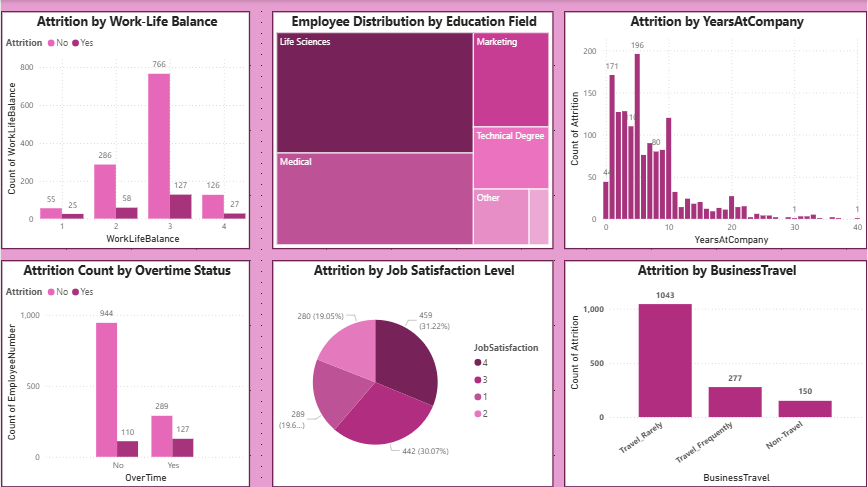

What the dashboard file says about the page in this screenshot:
{"tool":"powerbi","page":{"name":"HR Dashboad","canvas":[1280,720],"ordinal":2},"visuals":[{"type":"clusteredColumnChart","title":"Attrition by Work-Life Balance","fields":{"Category":["HR-Employee-Attrition.WorkLifeBalance"],"Y":["CountNonNull(HR-Employee-Attrition.WorkLifeBalance)"],"Series":["HR-Employee-Attrition.Attrition"]},"box":[0,16,368,352],"z":0},{"type":"clusteredColumnChart","title":"Attrition by YearsAtCompany","fields":{"Category":["HR-Employee-Attrition.YearsAtCompany"],"Y":["CountNonNull(HR-Employee-Attrition.Attrition)"]},"box":[832,16,448,352],"z":1000},{"type":"treemap","title":"Employee Distribution by Education Field","fields":{"Group":["HR-Employee-Attrition.EducationField"],"Values":["Sum(HR-Employee-Attrition.JobLevel)"]},"box":[400,16,416,352],"z":2000},{"type":"clusteredColumnChart","title":"Attrition Count by Overtime Status","fields":{"Category":["HR-Employee-Attrition.OverTime"],"Y":["CountNonNull(HR-Employee-Attrition.EmployeeNumber)"],"Series":["HR-Employee-Attrition.Attrition"]},"box":[0,384,368,336],"z":3000},{"type":"pieChart","title":"Attrition by Job Satisfaction Level","fields":{"Category":["HR-Employee-Attrition.JobSatisfaction"],"Y":["CountNonNull(HR-Employee-Attrition.Attrition)"]},"box":[400,384,416,336],"z":4000},{"type":"clusteredColumnChart","title":"Attrition by BusinessTravel","fields":{"Category":["HR-Employee-Attrition.BusinessTravel"],"Y":["CountNonNull(HR-Employee-Attrition.Attrition)"]},"box":[832,384,448,336],"z":5000}]}

Visuals, with their boxes in screenshot pixels (x1, y1, x2, y2), scaled from the page's 1280x720 canvas onto the 868x487 screenshot:
"Attrition by Work-Life Balance" clusteredColumnChart: BBox(0, 11, 250, 249)
"Attrition by YearsAtCompany" clusteredColumnChart: BBox(564, 11, 867, 249)
"Employee Distribution by Education Field" treemap: BBox(271, 11, 553, 249)
"Attrition Count by Overtime Status" clusteredColumnChart: BBox(0, 260, 250, 486)
"Attrition by Job Satisfaction Level" pieChart: BBox(271, 260, 553, 486)
"Attrition by BusinessTravel" clusteredColumnChart: BBox(564, 260, 867, 486)
